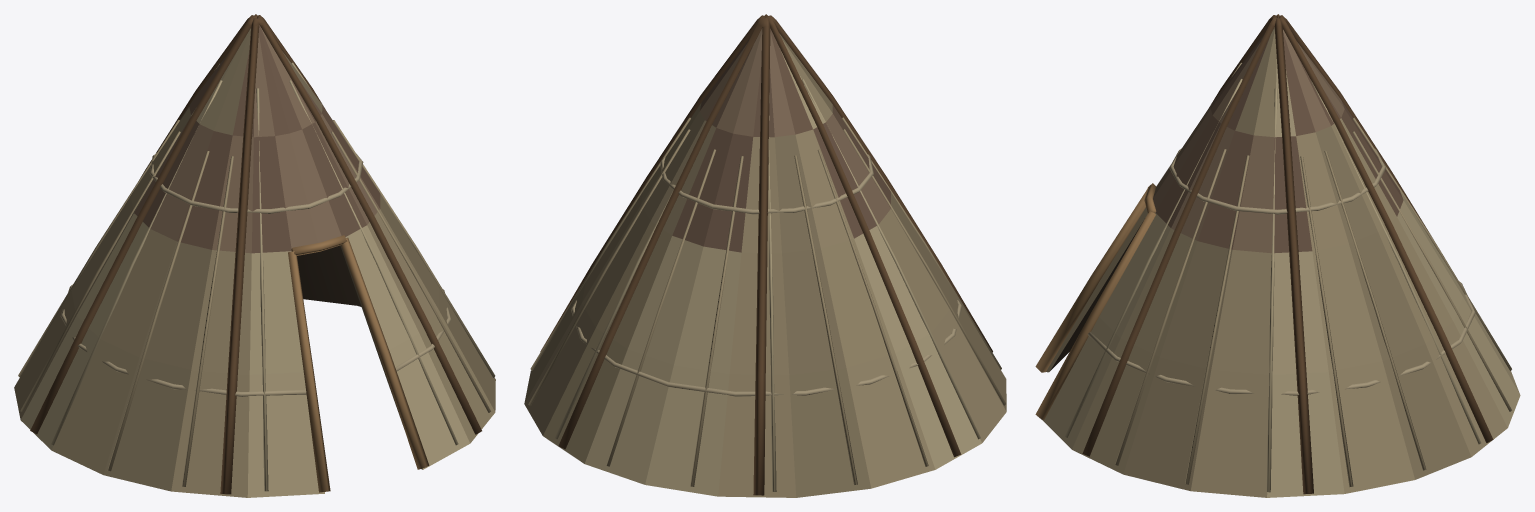
Rendered from conical_reed_hut_lod1.glb.
3 renders of one model, left to right at view 1: azimuth 30°, elevation 25°; view 2: azimuth 150°, elevation 25°; view 3: azimuth 270°, elevation 25°, orthographic.
Visible parts, largest first — view 1: conical_reed_hut_lod1; view 2: conical_reed_hut_lod1; view 3: conical_reed_hut_lod1.
Part boxes in pixels (x1,y1,x2,y2): conical_reed_hut_lod1: [14, 14, 495, 497]; conical_reed_hut_lod1: [524, 14, 1006, 497]; conical_reed_hut_lod1: [1035, 14, 1520, 497].
Size of the model in its own units: 4.1 by 3.54 by 4.1.
